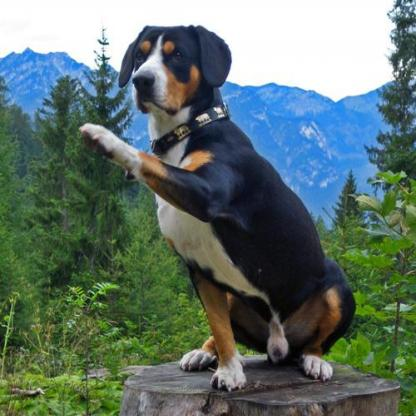EntleBucher: (76, 24, 354, 392)
